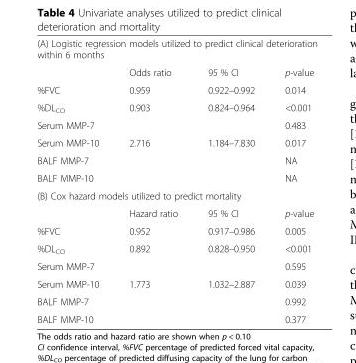table: (36, 37, 316, 324)
table column: (113, 37, 192, 324), (36, 37, 113, 324), (192, 37, 269, 324), (269, 37, 316, 324)
table projected row header: (36, 37, 316, 63), (36, 186, 316, 204)
table row: (36, 37, 316, 63), (36, 80, 316, 98), (36, 98, 316, 116), (36, 133, 316, 151), (36, 168, 316, 186), (36, 186, 316, 204), (36, 221, 316, 239), (36, 239, 316, 257), (36, 274, 316, 292), (36, 292, 316, 310), (36, 63, 316, 80), (36, 116, 316, 133), (36, 151, 316, 168), (36, 204, 316, 221), (36, 257, 316, 274), (36, 310, 316, 324)
